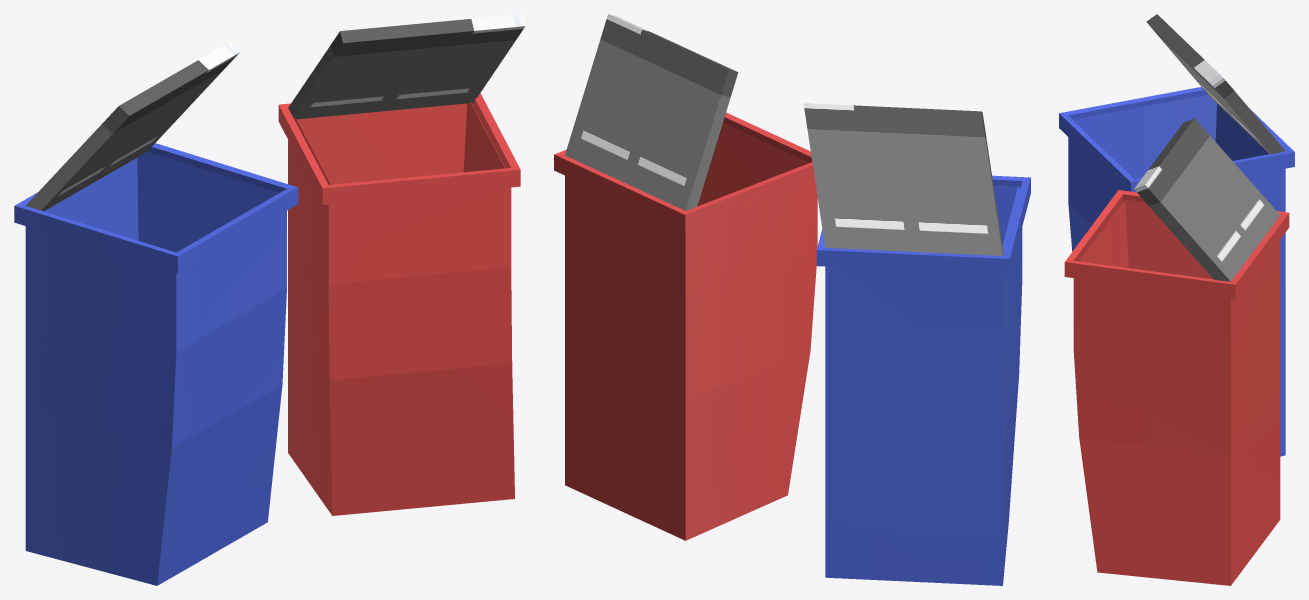
File: COP_KUTUSU_2.fbx
3 renders of one model, left to right at view 1: azimuth 30°, elevation 25°; view 2: azimuth 150°, elevation 25°; view 3: azimuth 270°, elevation 25°, orthographic. The views are drawn at different scales.
Visible parts, largest first — view 1: Cube.002, Cube.003; view 2: Cube.003, Cube.002; view 3: Cube.003, Cube.002.
Part boxes in pixels (box(x1,y1,x2,y2)): Cube.002: box(14, 42, 298, 585); Cube.003: box(278, 14, 525, 515); Cube.003: box(554, 14, 817, 540); Cube.002: box(803, 103, 1030, 585); Cube.003: box(1064, 118, 1289, 585); Cube.002: box(1059, 14, 1294, 456).
Bounding box in the file's own units: 121 × 113 × 59.95.
